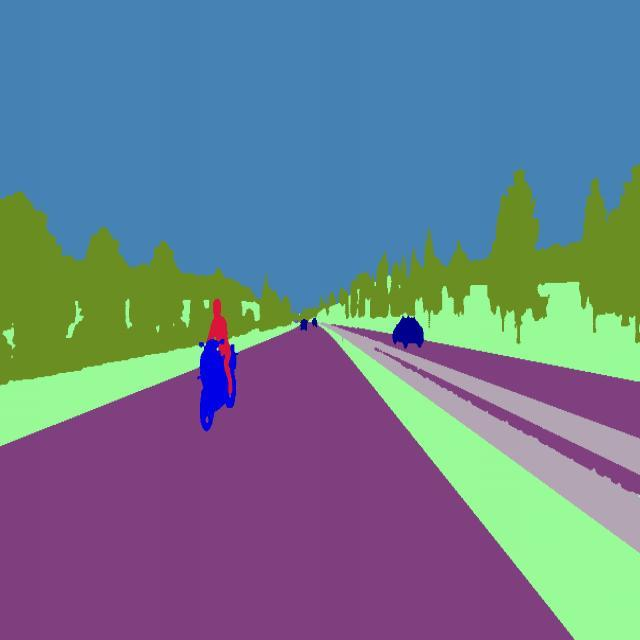safe: (193, 296, 239, 432), (390, 314, 428, 352), (298, 316, 309, 336)
